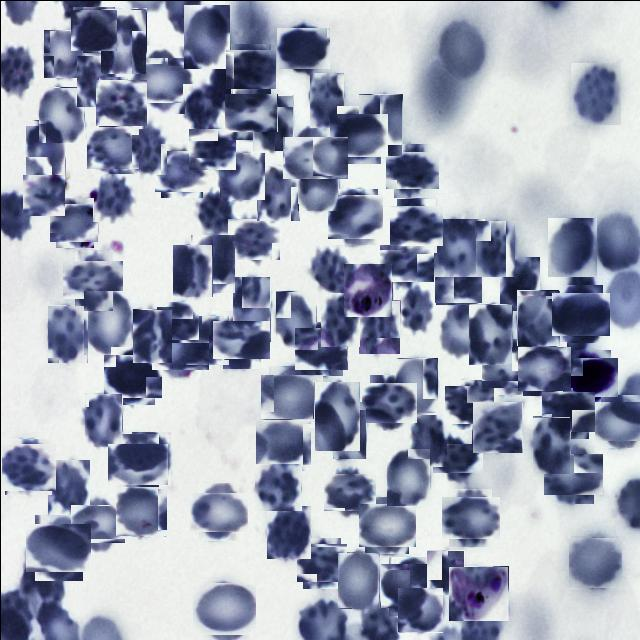leukocyte: (566, 353, 614, 400)
red blood cell: (29, 518, 86, 576), (195, 579, 252, 637), (436, 16, 486, 81), (133, 51, 190, 108), (312, 381, 358, 450), (570, 62, 620, 124), (83, 290, 131, 354), (100, 8, 146, 74), (432, 218, 484, 276), (183, 4, 229, 68), (288, 130, 342, 184), (547, 217, 596, 276), (264, 370, 318, 422), (1, 440, 54, 492), (358, 93, 402, 155), (569, 536, 621, 588), (468, 303, 512, 364), (190, 233, 235, 292), (106, 350, 158, 401), (384, 560, 436, 611), (257, 417, 308, 468), (332, 109, 383, 160), (112, 438, 163, 489), (114, 486, 166, 536), (554, 288, 606, 338), (38, 86, 84, 142), (386, 448, 430, 506), (444, 492, 495, 542), (547, 448, 597, 499), (232, 275, 270, 341), (330, 192, 380, 242), (361, 500, 411, 550), (472, 402, 522, 452), (516, 290, 560, 346), (68, 255, 118, 304), (96, 77, 146, 126), (154, 324, 204, 373), (484, 342, 534, 391), (256, 164, 299, 220), (337, 551, 379, 608), (395, 357, 437, 414), (25, 119, 65, 178), (194, 487, 242, 536), (520, 343, 568, 392), (275, 290, 316, 347), (266, 505, 310, 558), (441, 303, 485, 356), (46, 304, 86, 362), (47, 459, 89, 514), (278, 24, 326, 72), (157, 146, 205, 194), (365, 378, 413, 426), (297, 324, 345, 372), (88, 123, 136, 171), (217, 316, 265, 364), (252, 94, 293, 150), (326, 401, 366, 458), (475, 219, 515, 276), (358, 299, 400, 353), (254, 462, 301, 510), (297, 155, 338, 210), (230, 214, 276, 262), (434, 256, 480, 304), (544, 388, 592, 434), (392, 202, 440, 248), (532, 416, 570, 474), (499, 256, 539, 310), (132, 308, 172, 362), (76, 55, 118, 106), (172, 243, 212, 296), (326, 468, 372, 514), (383, 239, 429, 285), (228, 90, 274, 136), (219, 152, 264, 199), (308, 246, 352, 294), (131, 431, 170, 485), (320, 292, 359, 346), (74, 501, 120, 546), (84, 392, 122, 446), (408, 412, 446, 466), (388, 148, 434, 192), (298, 540, 344, 584), (398, 586, 442, 632), (92, 173, 134, 221), (597, 397, 640, 443), (128, 123, 166, 174), (52, 200, 96, 244), (447, 382, 491, 426), (189, 126, 233, 170), (228, 46, 272, 90), (71, 7, 115, 51), (43, 29, 83, 77), (194, 188, 235, 234), (309, 72, 343, 127), (22, 173, 64, 215), (182, 83, 220, 128), (426, 549, 464, 594), (195, 314, 229, 364), (437, 437, 477, 477), (400, 283, 432, 332), (158, 304, 196, 342)
trophozoite: (448, 565, 508, 620), (343, 262, 392, 316)
